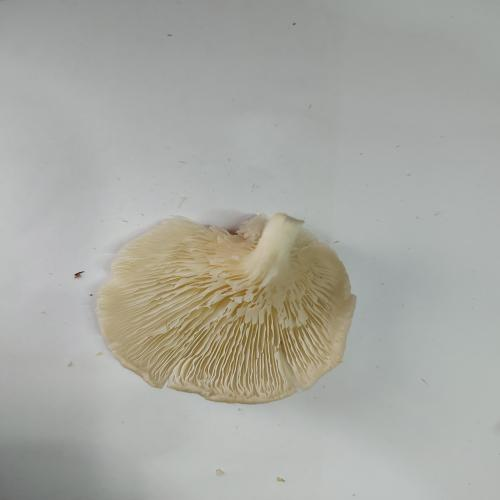Oyster Mushroom: (95, 211, 357, 405)
